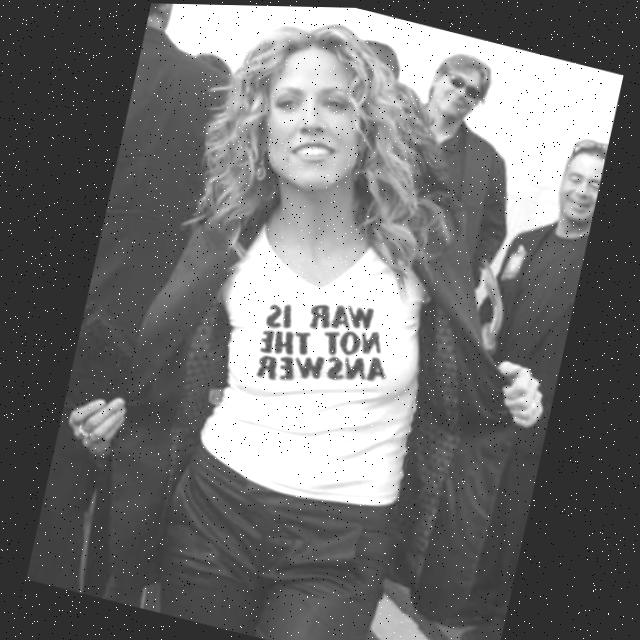face: (241, 31, 378, 218), (424, 44, 496, 138), (546, 141, 607, 245)
